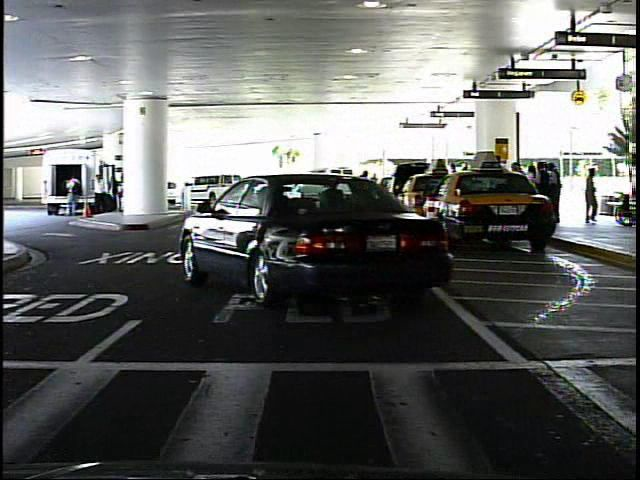person: (356, 165, 380, 220), (582, 164, 602, 228)
